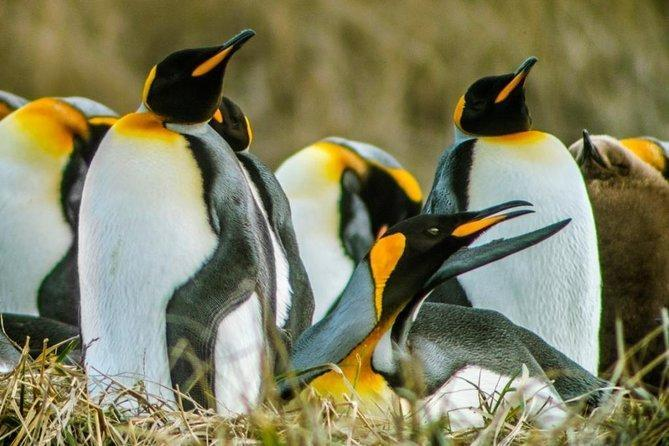Penguin: (78, 30, 289, 415), (423, 56, 600, 372), (281, 200, 531, 396), (0, 98, 117, 359), (209, 96, 314, 358), (276, 137, 422, 321), (407, 302, 619, 415), (570, 131, 668, 368), (621, 136, 668, 180)
